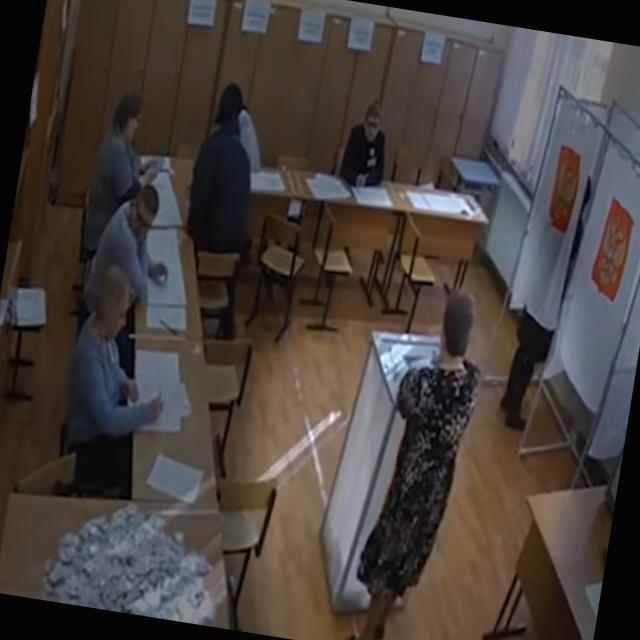person: (343, 278, 495, 640), (50, 260, 184, 502), (495, 162, 595, 432), (168, 86, 272, 331), (78, 172, 181, 334), (76, 85, 168, 263), (323, 96, 396, 262), (336, 96, 398, 194), (206, 81, 272, 171)
